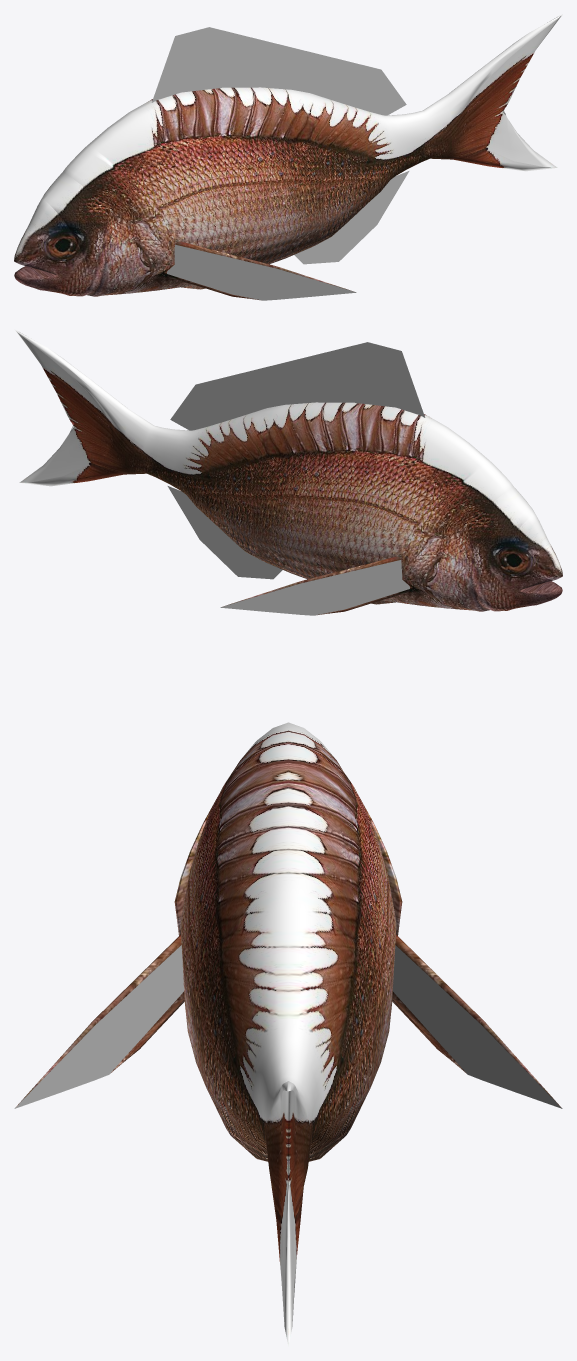
File: redsnappertenplate.dae
The picture shows the model from 3 angles, top to bottom: view 1: azimuth 30°, elevation 25°; view 2: azimuth 150°, elevation 25°; view 3: azimuth 270°, elevation 25°; orthographic projection. The views are drawn at different scales.
Visible parts, largest first — view 1: body, ひれ, パート, 自由曲面; view 2: body, ひれ, パート, 自由曲面; view 3: body, パート (×2), 自由曲面 (×2).
Boxes of the visible parts, left/top/right/bottom form: body: left=14, top=14, right=562, bottom=296; ひれ: left=151, top=27, right=409, bottom=289; パート: left=167, top=244, right=356, bottom=300; 自由曲面: left=167, top=241, right=351, bottom=300; body: left=14, top=329, right=562, bottom=611; ひれ: left=167, top=342, right=425, bottom=604; パート: left=220, top=560, right=409, bottom=615; 自由曲面: left=225, top=556, right=409, bottom=615; body: left=174, top=722, right=402, bottom=1346; パート (×2): left=14, top=945, right=562, bottom=1108; 自由曲面 (×2): left=15, top=934, right=561, bottom=1107.
Size of the model in its own units: 931 by 432 by 473.
6 materials, 3 textured.
